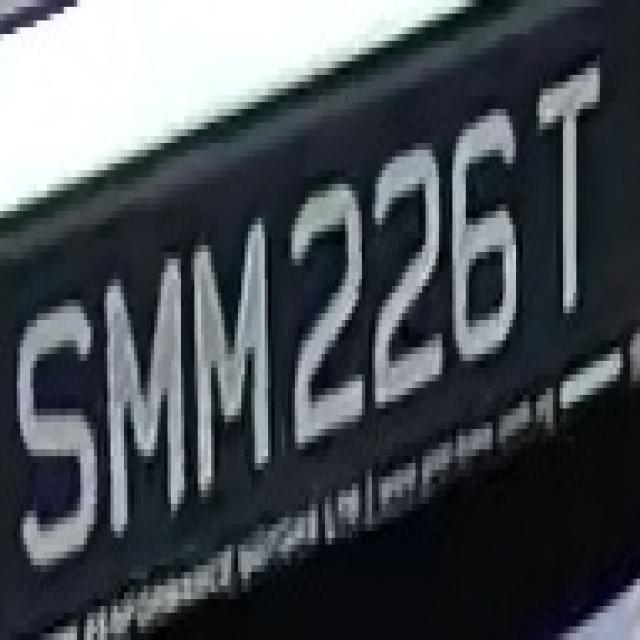2: (359, 129, 459, 422), (282, 177, 376, 463)
6: (439, 89, 526, 368)
M: (90, 252, 191, 558), (178, 197, 278, 504)
S: (7, 272, 97, 586)
T: (523, 48, 610, 326)
